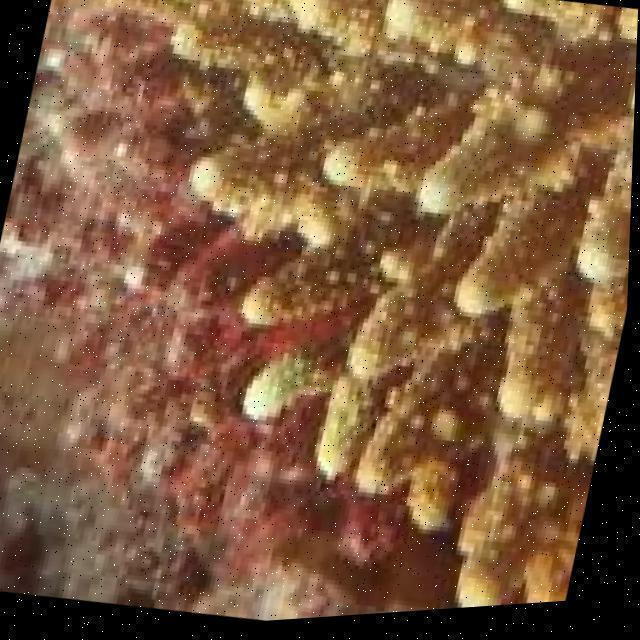Healthy Coral: (210, 0, 640, 566)
